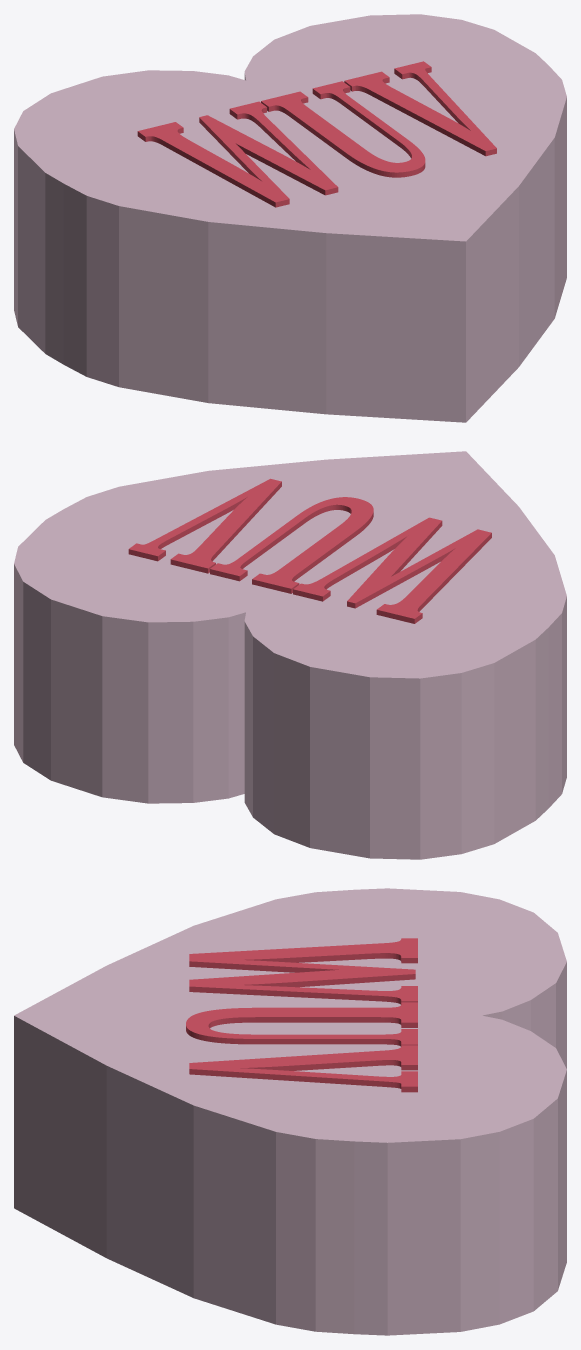
Rendered from wuv.glb.
3 renders of one model, top to bottom at view 1: azimuth 30°, elevation 25°; view 2: azimuth 150°, elevation 25°; view 3: azimuth 270°, elevation 25°, orthographic. The views are drawn at different scales.
Parts seen in each view (by area): view 1: Mesh_Mesh_head_geo.001_lambert2SG.001; view 2: Mesh_Mesh_head_geo.001_lambert2SG.001; view 3: Mesh_Mesh_head_geo.001_lambert2SG.001.
Boxes of the visible parts, box(x1,y1,x2,y2) form: Mesh_Mesh_head_geo.001_lambert2SG.001: box(14, 14, 566, 422); Mesh_Mesh_head_geo.001_lambert2SG.001: box(14, 451, 566, 859); Mesh_Mesh_head_geo.001_lambert2SG.001: box(14, 888, 566, 1335).
Bounding box in the file's own units: 28.31 × 10.28 × 26.
